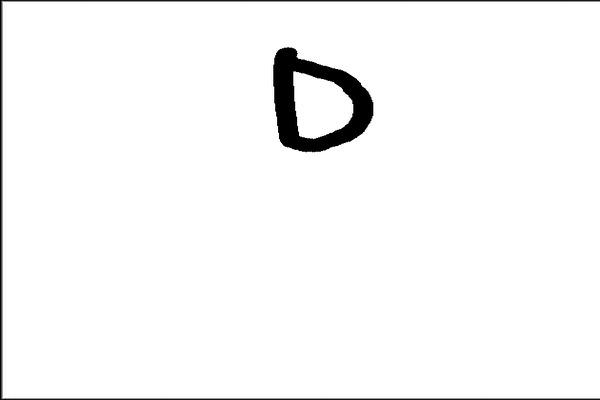D: (267, 37, 378, 157)
